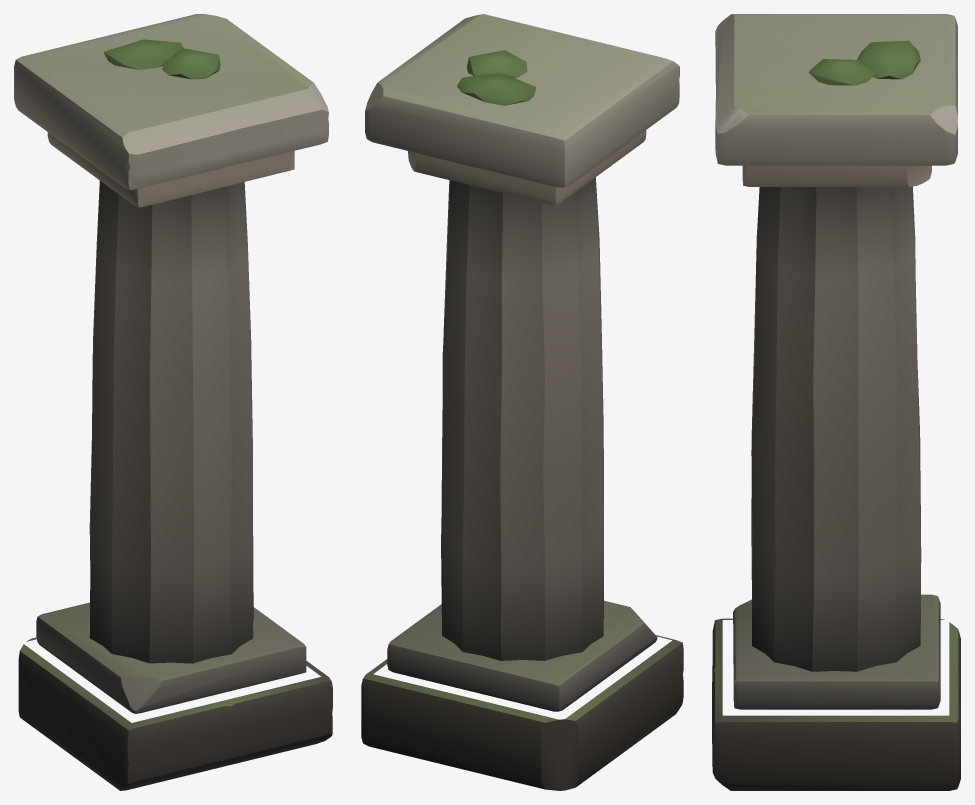
The model's file is ruins-column-v1.glb.
3 renders of one model, left to right at view 1: azimuth 30°, elevation 25°; view 2: azimuth 150°, elevation 25°; view 3: azimuth 270°, elevation 25°, orthographic. The views are drawn at different scales.
Parts seen in each view (by area): view 1: 0_ruins_column; view 2: 0_ruins_column; view 3: 0_ruins_column.
Part boxes in pixels (<box>): 0_ruins_column: <box>14,14,332,790</box>; 0_ruins_column: <box>361,14,683,790</box>; 0_ruins_column: <box>712,14,960,790</box>.
Size of the model in its own units: 0.86 by 2.62 by 0.8566.
